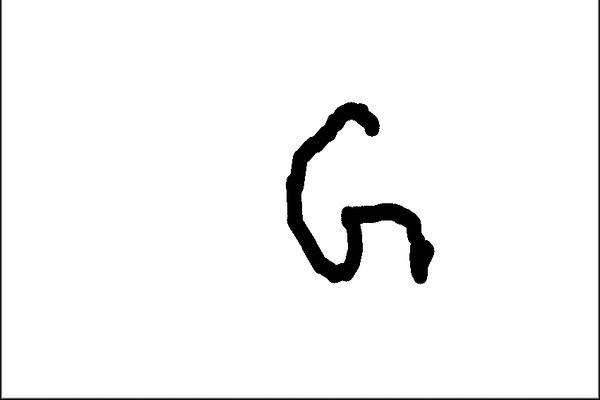G: (282, 97, 436, 287)
